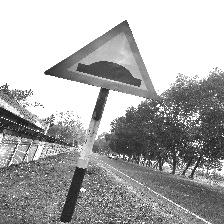Speed-breaker: (44, 19, 161, 100)
